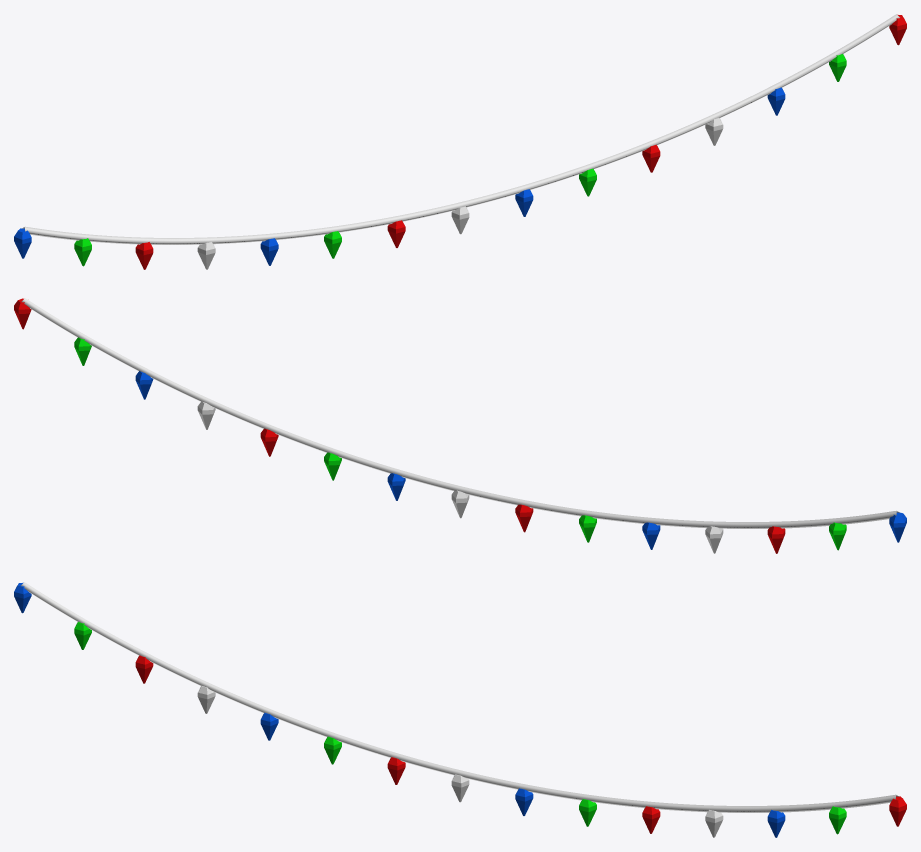
File: big lights.dae
3 views of the same model, one above another, from view 1: azimuth 30°, elevation 25°; view 2: azimuth 150°, elevation 25°; view 3: azimuth 330°, elevation 25° (orthographic).
Visible parts, largest first — view 1: NurbsCurve.001, NurbsCurve; view 2: NurbsCurve.001, NurbsCurve; view 3: NurbsCurve.001, NurbsCurve.
Part boxes in pixels (x1,y1,x2,y2): NurbsCurve.001: [21, 14, 899, 244]; NurbsCurve: [14, 14, 906, 269]; NurbsCurve.001: [21, 298, 899, 528]; NurbsCurve: [14, 298, 906, 553]; NurbsCurve.001: [21, 582, 899, 812]; NurbsCurve: [14, 582, 906, 837].
Bounding box in the file's own units: 5.46 × 0.0905 × 0.6653.
